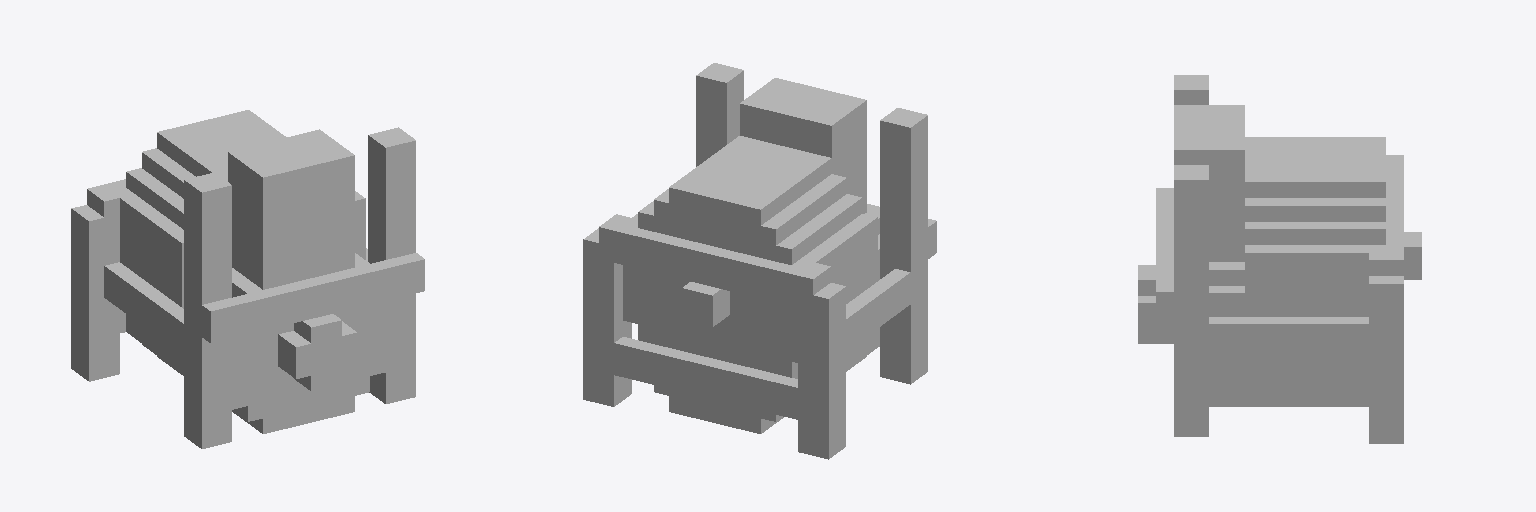
The model's file is power_generators_ce_gearbox.obj.
The picture shows the model from 3 angles: view 1: azimuth 30°, elevation 25°; view 2: azimuth 150°, elevation 25°; view 3: azimuth 270°, elevation 25°; orthographic projection.
Parts seen in each view (by area): view 1: node_0_0_0.005; view 2: node_0_0_0.005; view 3: node_0_0_0.005.
Part boxes in pixels (left/top/right/bottom): node_0_0_0.005: left=71, top=110, right=424, bottom=448; node_0_0_0.005: left=583, top=63, right=936, bottom=459; node_0_0_0.005: left=1138, top=75, right=1421, bottom=443.
Bounding box in the file's own units: 1 × 1 × 1.